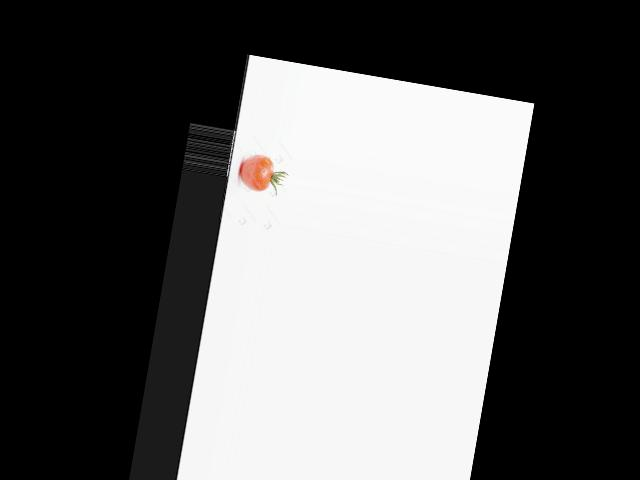tomato: (237, 152, 274, 193)
